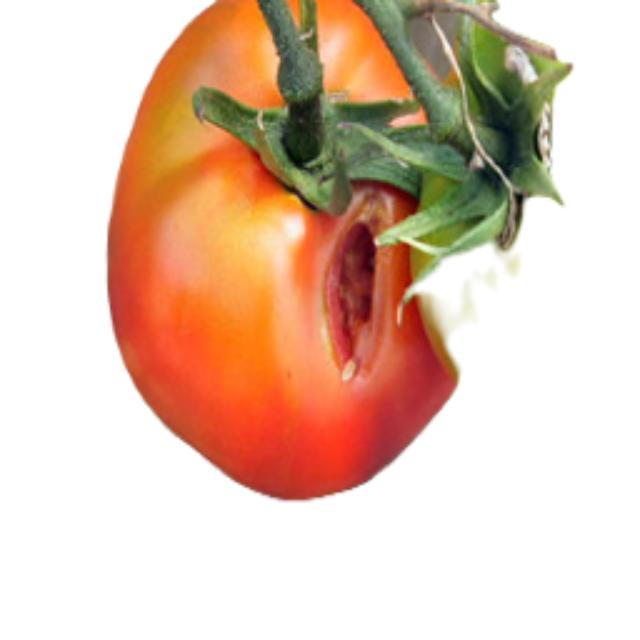defect: (98, 0, 572, 515)
